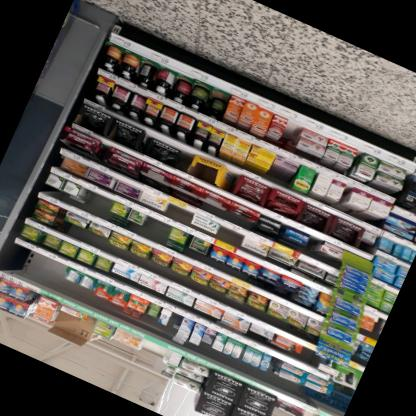empty_space: (15, 248, 46, 279), (39, 257, 69, 289), (140, 217, 172, 245), (137, 340, 166, 367), (83, 191, 112, 218), (216, 223, 245, 248), (165, 203, 192, 225), (297, 345, 321, 368), (78, 314, 96, 336), (167, 312, 183, 332), (297, 409, 316, 416)
